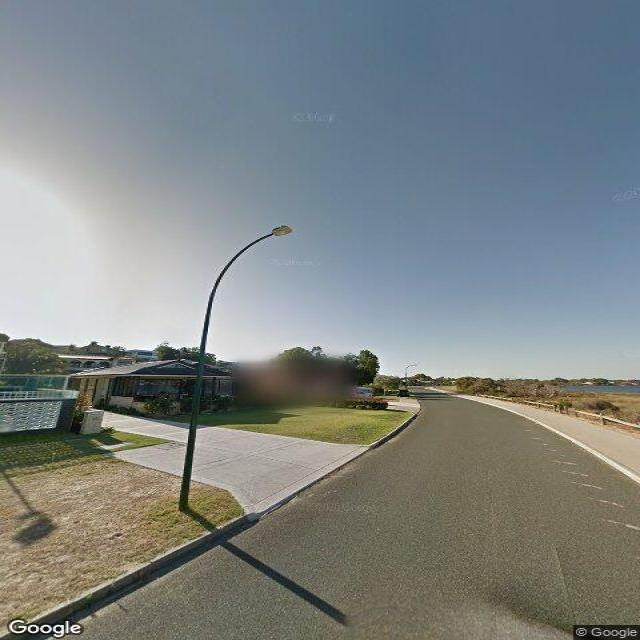steel-pole: (177, 293, 215, 507)
streetlight: (208, 224, 294, 306)
